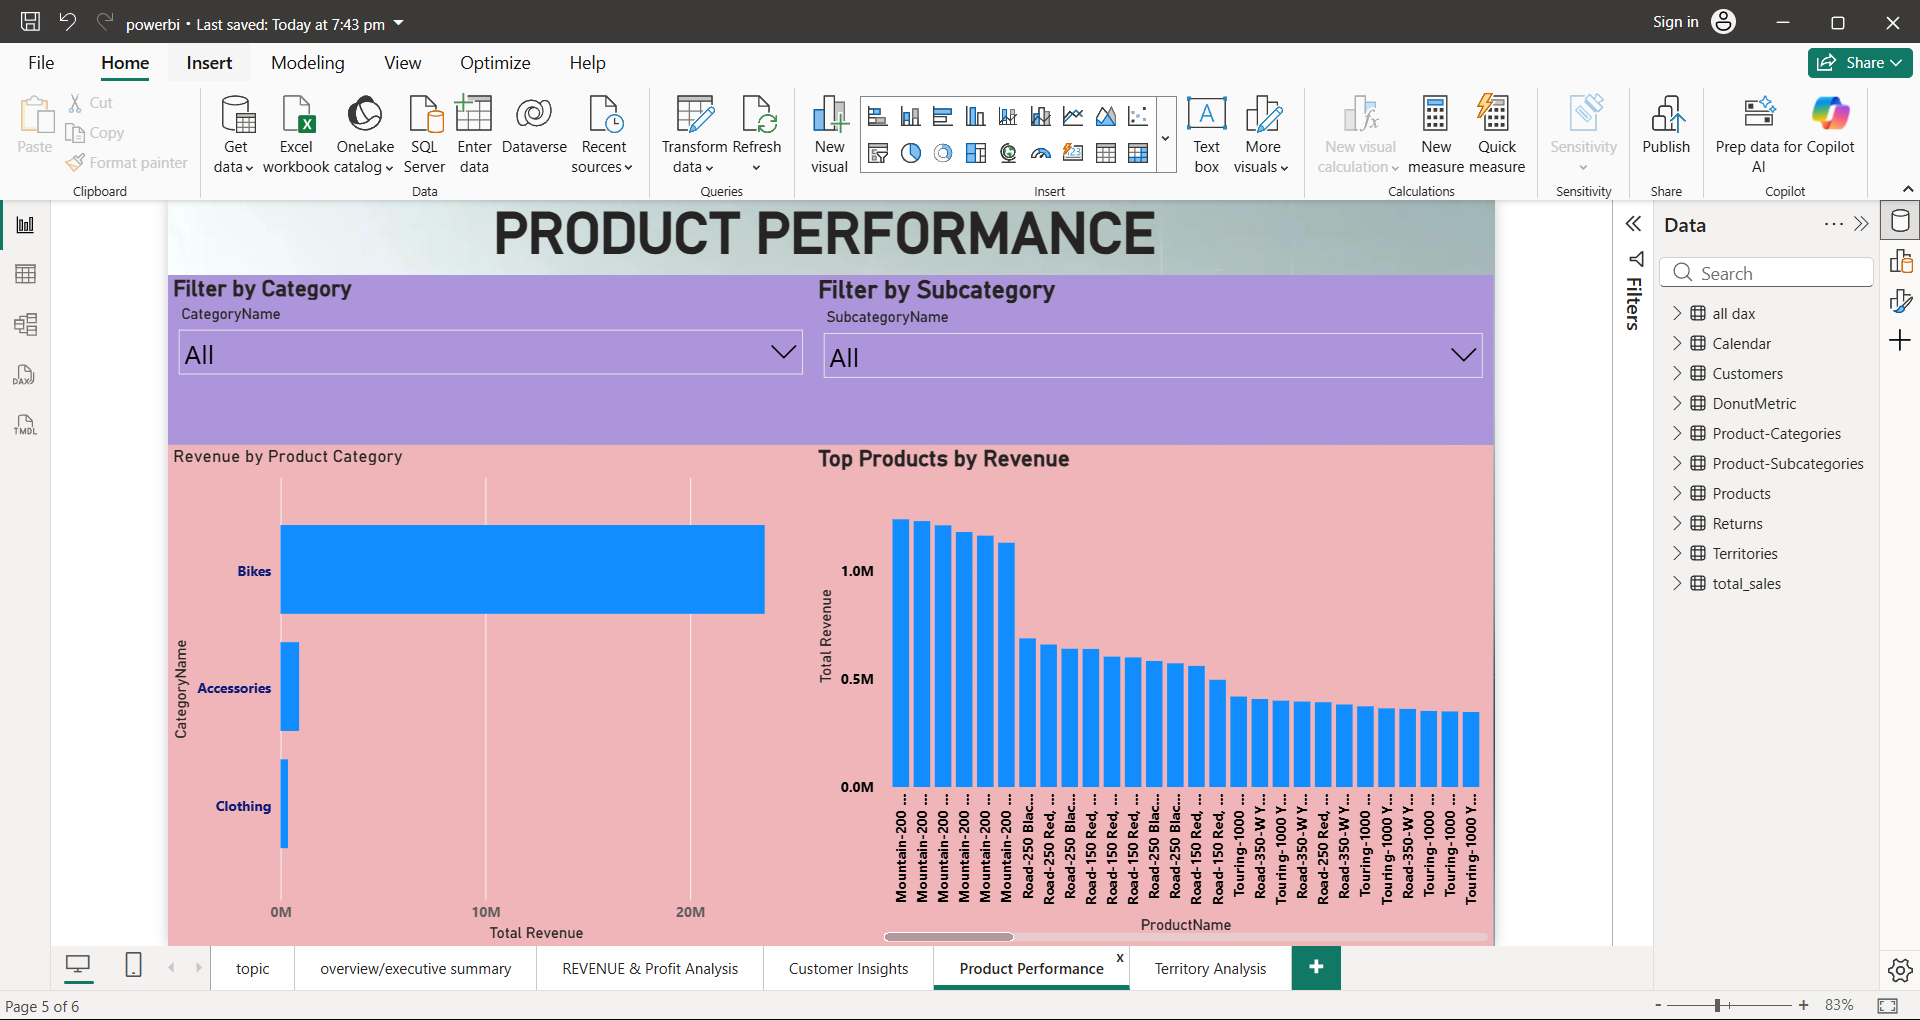

What the dashboard file says about the page in this screenshot:
{"tool":"powerbi","page":{"name":"Product Performance","canvas":[1280,720],"ordinal":4},"visuals":[{"type":"clusteredBarChart","title":"Revenue by Product Category","fields":{"Category":["Product-Categories.CategoryName"],"Y":["total_sales.Total Revenue"]},"box":[0,236.7,622.9,484.1],"z":0},{"type":"clusteredColumnChart","title":"Top Products by Revenue","fields":{"Category":["Products.ProductName"],"Y":["total_sales.Total Revenue"]},"box":[622.9,236.7,656.7,484.1],"z":1000},{"type":"slicer","title":"Filter by Category","fields":{"Values":["Product-Categories.CategoryName"]},"box":[0,73,622.9,163.7],"z":2000},{"type":"slicer","title":"Filter by Subcategory","fields":{"Values":["Product-Subcategories.SubcategoryName"]},"box":[622.9,73,656.7,163.7],"z":3000},{"type":"textbox","title":"PRODUCT PERFORMANCE","box":[308.6,0,714,72.5],"z":4000}]}

Visuals, with their boxes on the page's 1280x720 design canvas (x1, y1, x2, y2). These are canvas units, not pixel positions in the 1920x1020 screenshot, which may show the page scaled, cropped or inside an application window:
"Revenue by Product Category" clusteredBarChart: <bbox>0, 237, 623, 721</bbox>
"Top Products by Revenue" clusteredColumnChart: <bbox>623, 237, 1280, 721</bbox>
"Filter by Category" slicer: <bbox>0, 73, 623, 237</bbox>
"Filter by Subcategory" slicer: <bbox>623, 73, 1280, 237</bbox>
"PRODUCT PERFORMANCE" textbox: <bbox>309, 0, 1023, 72</bbox>
